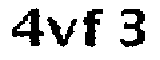3: (117, 7, 152, 51)
4: (6, 4, 46, 49)
f: (80, 4, 107, 53)
v: (44, 12, 79, 49)
